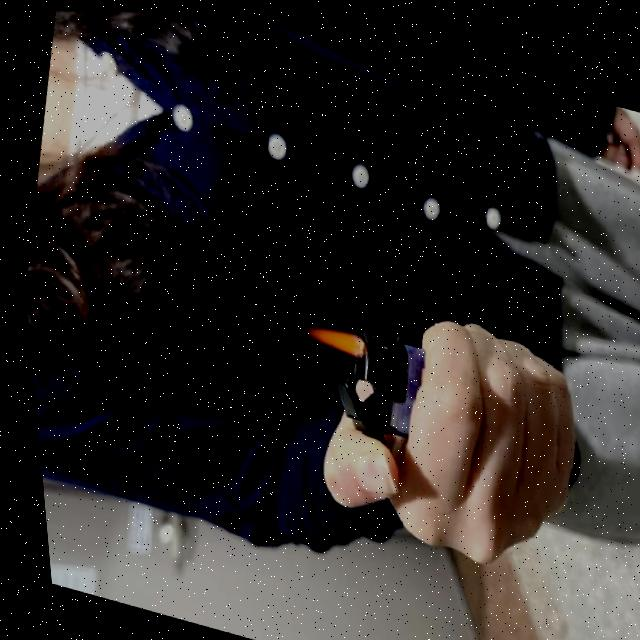Fire: (295, 314, 360, 353)
